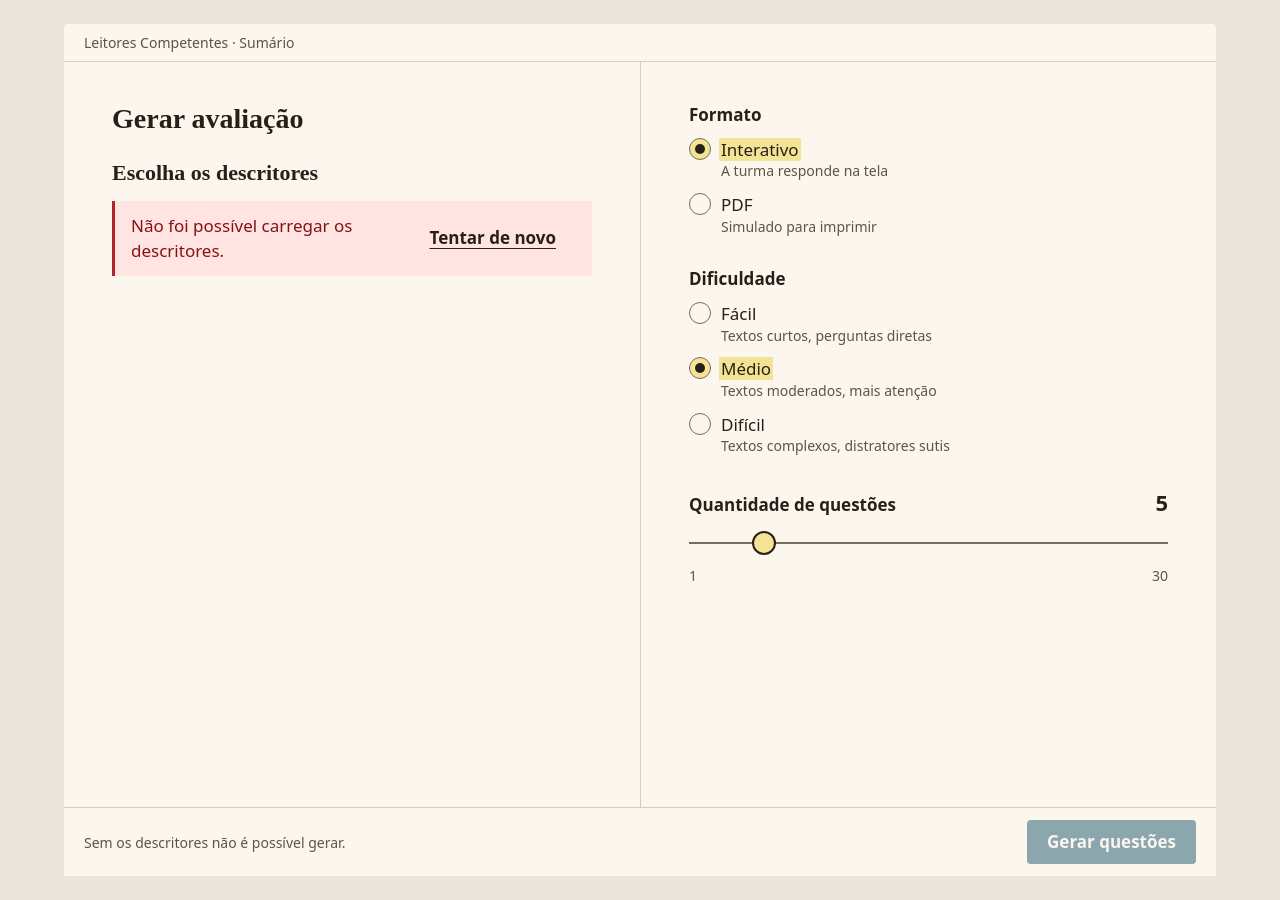
Scenario: GenerateScreen › offers a retry when the descriptors fail and recovers
The image size is (1280, 900).
Expected: the message shows "Não foi possível carregar os descritores.", x1=131 y1=214 x2=352 y2=262
Expected: the text "Sem os descritores não é possível gerar." is shown, x1=84 y1=832 x2=345 y2=852
Step 1. Click the button "Tentar de novo" → {"x": 493, "y": 238}, box x1=410 y1=216 x2=576 y2=260
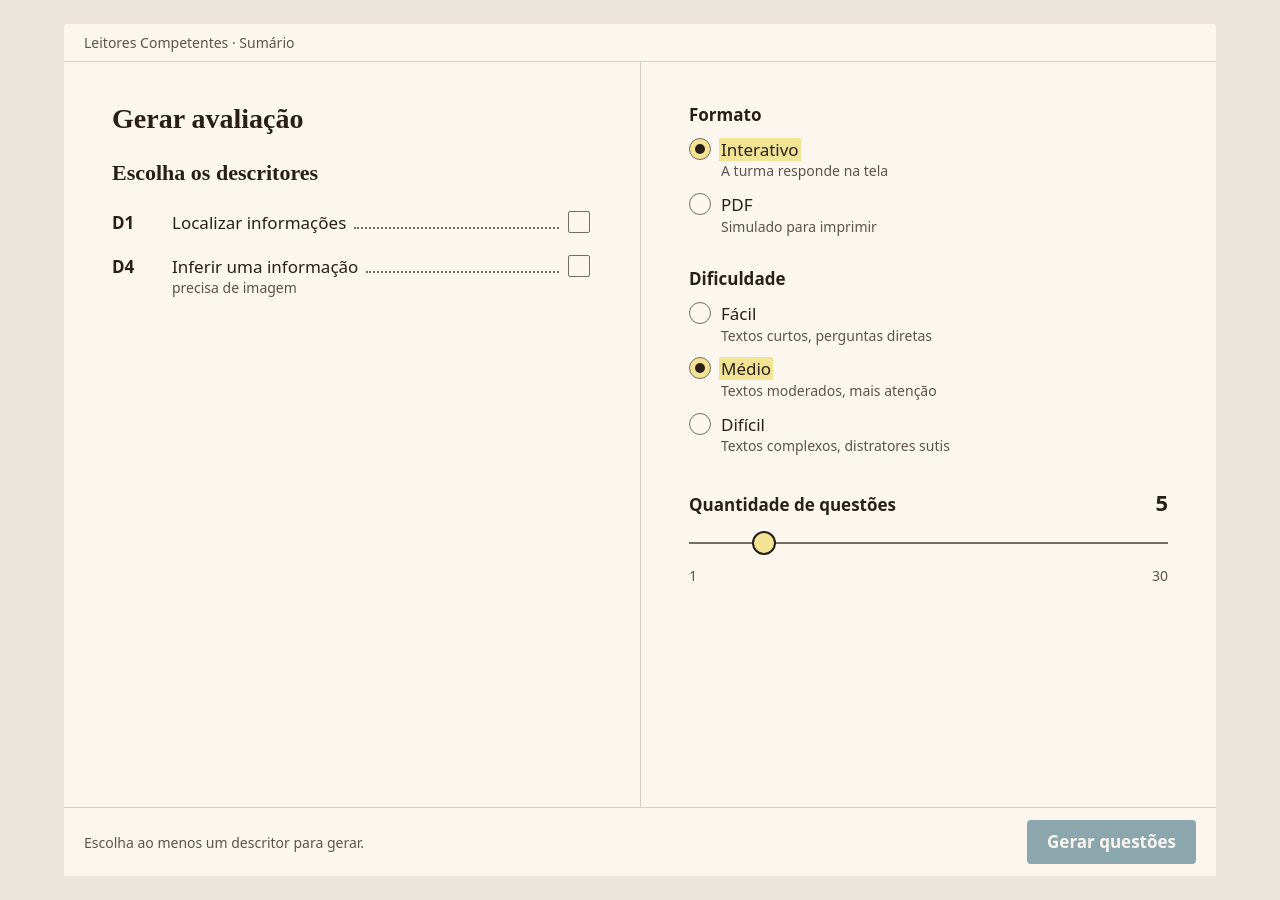
Now the message "Não foi possível carregar os descritores. Tentar de novo" is gone
